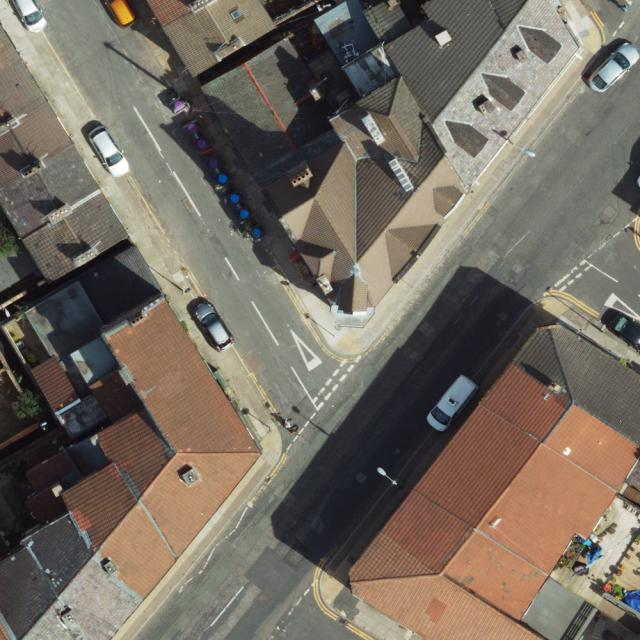roof: (202, 0, 583, 328), (350, 325, 640, 640), (0, 294, 264, 640), (0, 22, 130, 284), (146, 0, 278, 76), (29, 357, 80, 412)
skylight: (226, 2, 248, 26)
